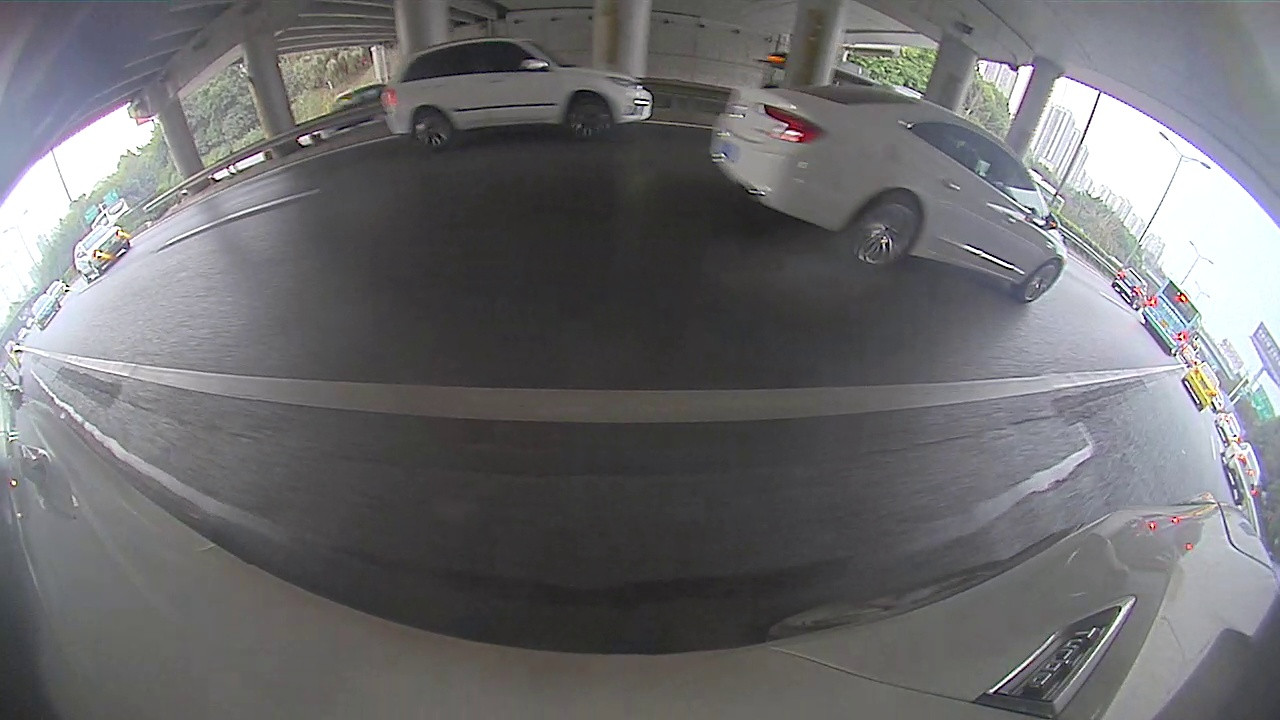bus: (1142, 277, 1200, 357)
car: (710, 83, 1065, 303), (383, 37, 654, 150), (72, 224, 131, 279), (1222, 439, 1263, 500), (1183, 363, 1223, 410), (1112, 268, 1150, 307), (31, 295, 57, 327)
front: (568, 96, 618, 146), (1013, 262, 1068, 306), (87, 261, 103, 277)
rear: (845, 197, 922, 272), (412, 104, 456, 153)
